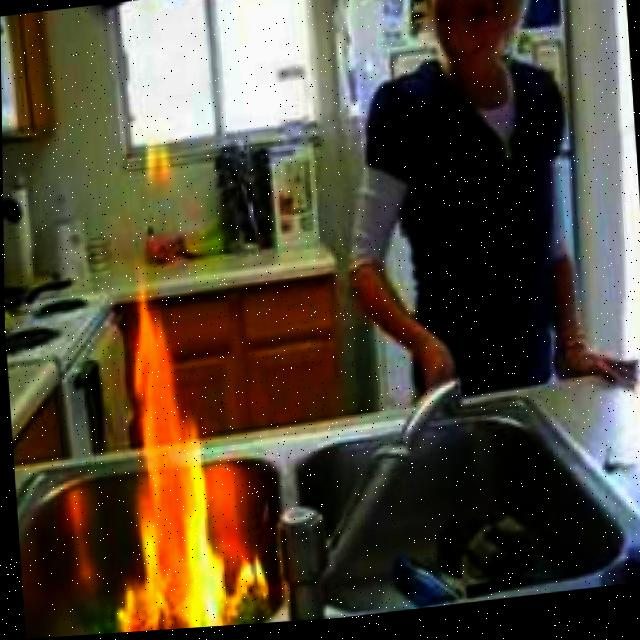Fire: (91, 279, 266, 635)
